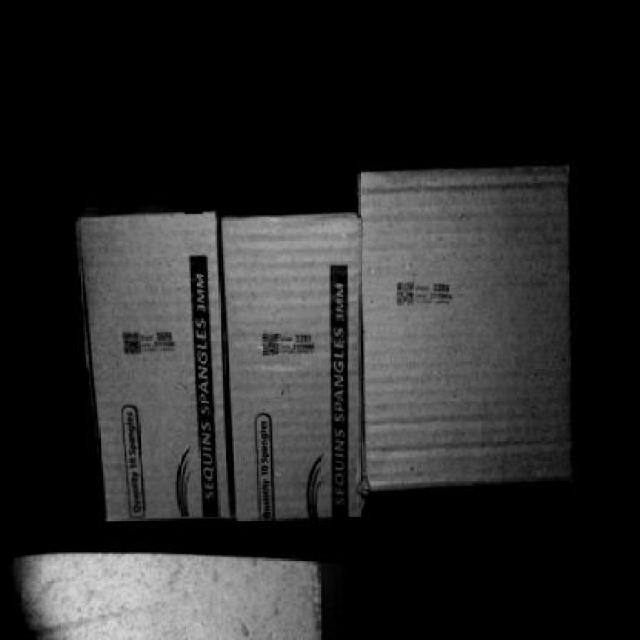cardboxes: (359, 162, 572, 480), (80, 212, 232, 516), (223, 210, 362, 508)
